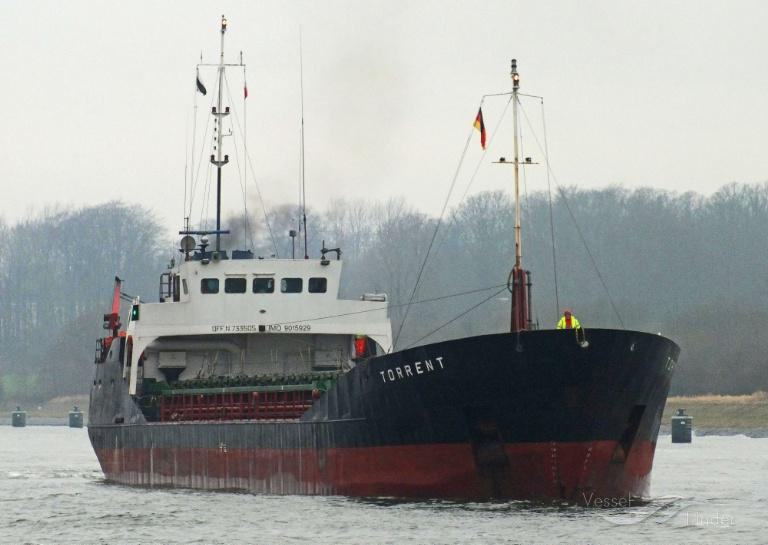OCR: (370, 353, 458, 389), (204, 318, 314, 334)
